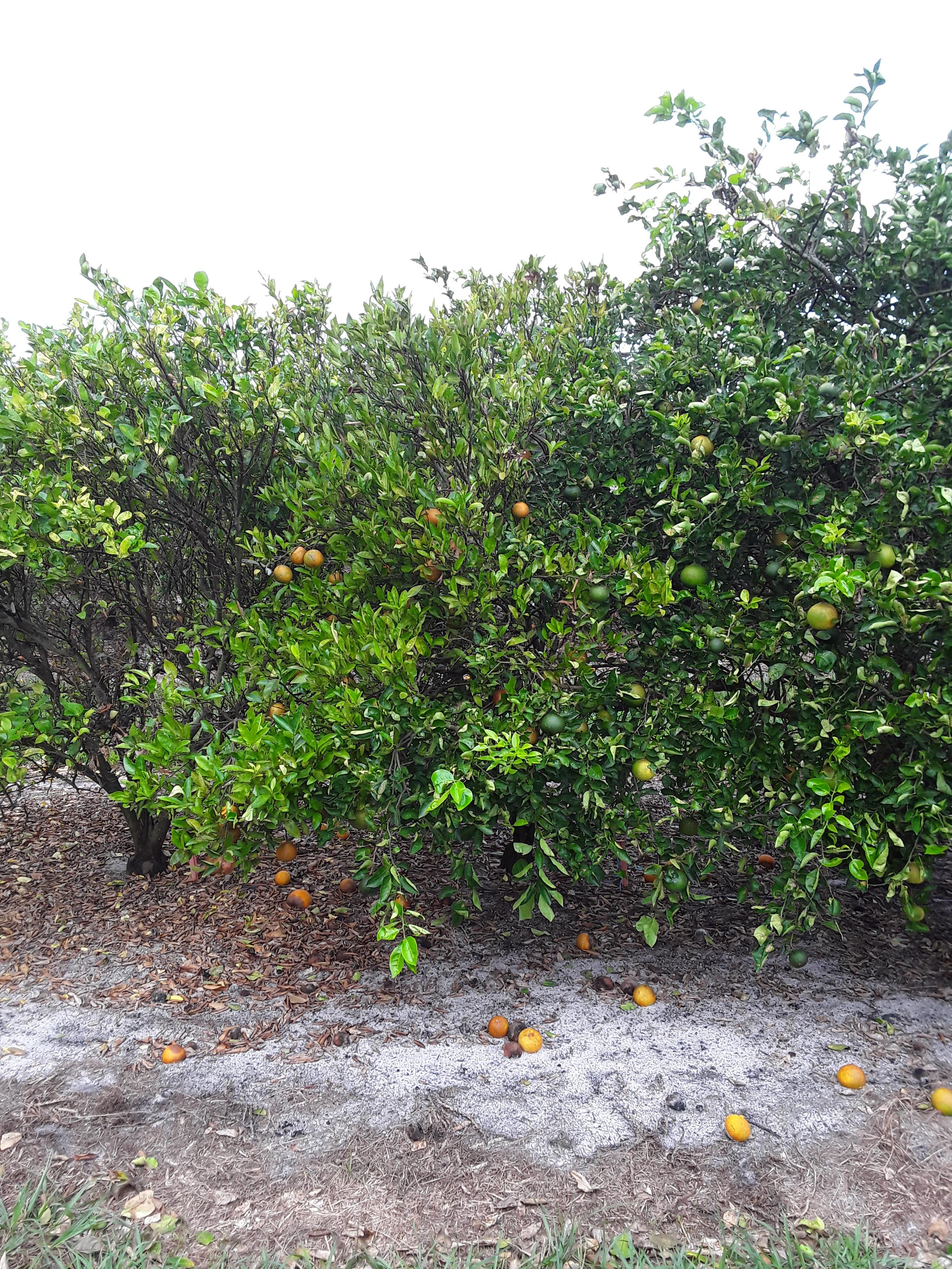fruit_on_ground: (425, 531, 468, 569), (805, 599, 840, 632), (865, 542, 898, 571), (679, 561, 711, 589), (769, 526, 799, 555), (349, 802, 378, 831), (662, 865, 691, 893), (688, 432, 716, 459), (903, 858, 929, 886), (630, 756, 656, 782), (539, 709, 565, 735), (623, 680, 648, 706), (422, 438, 448, 462), (273, 840, 299, 863), (420, 559, 444, 583), (587, 582, 612, 605), (677, 815, 702, 838), (217, 822, 243, 844), (903, 901, 927, 924), (489, 685, 513, 708), (421, 505, 445, 528), (303, 546, 326, 569), (815, 379, 838, 401), (560, 481, 583, 503), (518, 723, 540, 746), (509, 499, 531, 521), (287, 664, 310, 685), (266, 699, 289, 720), (271, 563, 294, 584), (565, 645, 589, 665), (217, 799, 241, 819), (654, 397, 676, 418), (762, 558, 784, 579), (787, 947, 809, 968), (569, 718, 590, 738), (706, 635, 727, 655), (755, 850, 777, 869), (688, 295, 707, 316), (289, 544, 308, 565), (717, 255, 737, 274), (325, 569, 346, 587), (322, 608, 341, 626)
fruit_on_tree: (836, 1061, 868, 1091), (724, 1112, 752, 1143), (631, 982, 658, 1009), (516, 1026, 544, 1052), (159, 1040, 187, 1066), (285, 887, 314, 911), (931, 1084, 952, 1116), (487, 1014, 511, 1040), (506, 1018, 529, 1043), (500, 1038, 522, 1060), (391, 891, 414, 912), (618, 976, 641, 996), (215, 855, 237, 874), (593, 973, 615, 992), (337, 876, 358, 895), (642, 865, 662, 884), (756, 851, 777, 869), (575, 930, 593, 951), (274, 868, 292, 887), (331, 1030, 348, 1048), (335, 826, 350, 843), (313, 820, 329, 834)
